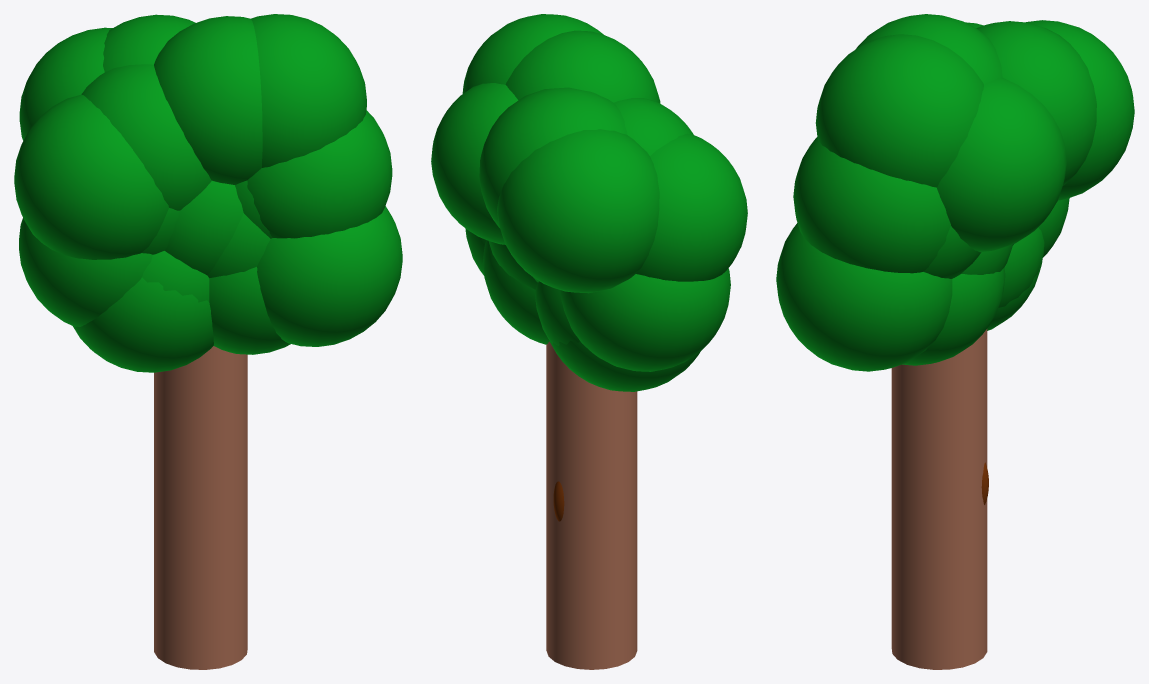
Rendered from SmallTree.fbx.
The picture shows the model from 3 angles, left to right: view 1: azimuth 30°, elevation 25°; view 2: azimuth 150°, elevation 25°; view 3: azimuth 270°, elevation 25°; orthographic projection. The views are drawn at different scales.
Parts seen in each view (by area): view 1: Trunk, Leaf_10, Leaf_8, Leaf_4, Leaf_3, Leaf_9, Leaf_6, Leaf_5, Leaf_12, Leaf_13, Leaf_16, Leaf (+5 smaller); view 2: Trunk, Leaf_13, Leaf_12, Leaf_10, Leaf_14, Leaf_15, Leaf_4, Leaf_3, Leaf_6, Leaf_16, Leaf_5, Leaf_11 (+2 smaller); view 3: Trunk, Leaf_3, Leaf_8, Leaf_15, Leaf_9, Leaf_14, Leaf_13, Leaf_16, Leaf_4, Leaf_11, Leaf_2, Leaf_12 (+2 smaller).
Part boxes in pixels (x1,y1,x2,y2): Trunk: (154, 346, 247, 669); Leaf_10: (14, 94, 168, 259); Leaf_8: (257, 206, 402, 346); Leaf_4: (154, 16, 262, 184); Leaf_3: (251, 14, 366, 167); Leaf_9: (247, 110, 392, 238); Leaf_6: (73, 277, 213, 372); Leaf_5: (81, 64, 211, 210); Leaf_12: (19, 218, 152, 326); Leaf_13: (19, 27, 112, 140); Leaf_16: (209, 267, 290, 354); Leaf: (164, 180, 243, 275); Trunk: (546, 341, 637, 669); Leaf_13: (497, 129, 659, 293); Leaf_12: (560, 268, 730, 371); Leaf_10: (636, 133, 747, 281); Leaf_14: (479, 87, 627, 227); Leaf_15: (431, 83, 518, 244); Leaf_4: (505, 30, 660, 103); Leaf_3: (462, 14, 603, 93); Leaf_6: (549, 340, 700, 391); Leaf_16: (482, 240, 549, 344); Leaf_5: (614, 98, 693, 155); Leaf_11: (535, 281, 579, 345); Trunk: (891, 329, 987, 669); Leaf_3: (815, 34, 983, 187); Leaf_8: (776, 223, 952, 371); Leaf_15: (936, 77, 1066, 252); Leaf_9: (793, 137, 950, 273); Leaf_14: (976, 21, 1096, 185); Leaf_13: (1026, 20, 1134, 200); Leaf_16: (902, 267, 1005, 365); Leaf_4: (855, 14, 1002, 84); Leaf_11: (998, 227, 1044, 307); Leaf_2: (923, 226, 981, 278); Leaf_12: (1038, 198, 1069, 257).
Size of the model in its own units: 523 by 984 by 501.
